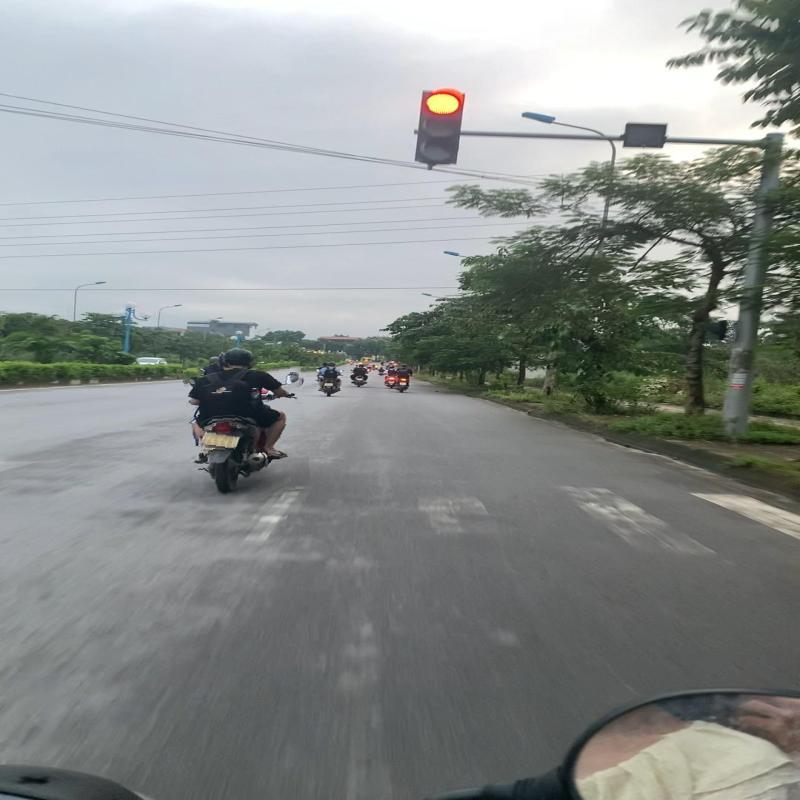helmet: (222, 345, 258, 369)
licenseplate: (198, 432, 243, 450)
motorcyclist: (184, 343, 308, 496)
